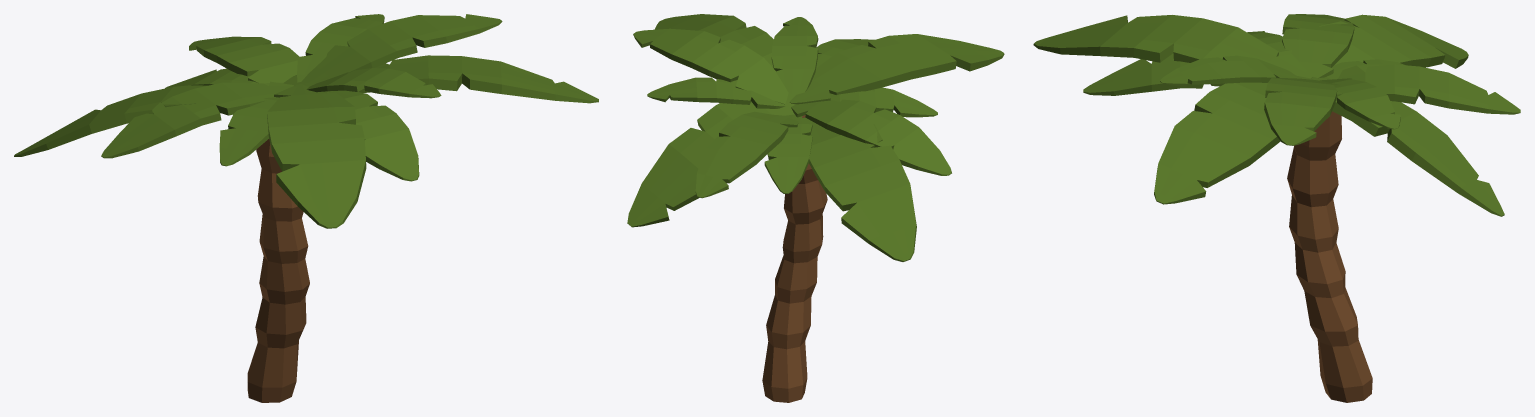
Rendered from agac4.fbx.
3 views of the same model, side by side, from view 1: azimuth 30°, elevation 25°; view 2: azimuth 150°, elevation 25°; view 3: azimuth 270°, elevation 25° (orthographic). The views are drawn at different scales.
Visible parts, largest first — view 1: agac3; view 2: agac3; view 3: agac3.
Boxes of the visible parts, box(x1,y1,x2,y2) form: agac3: box(14, 14, 598, 402); agac3: box(627, 14, 1004, 402); agac3: box(1033, 14, 1520, 402).
Bounding box in the file's own units: 402 × 312 × 386.
